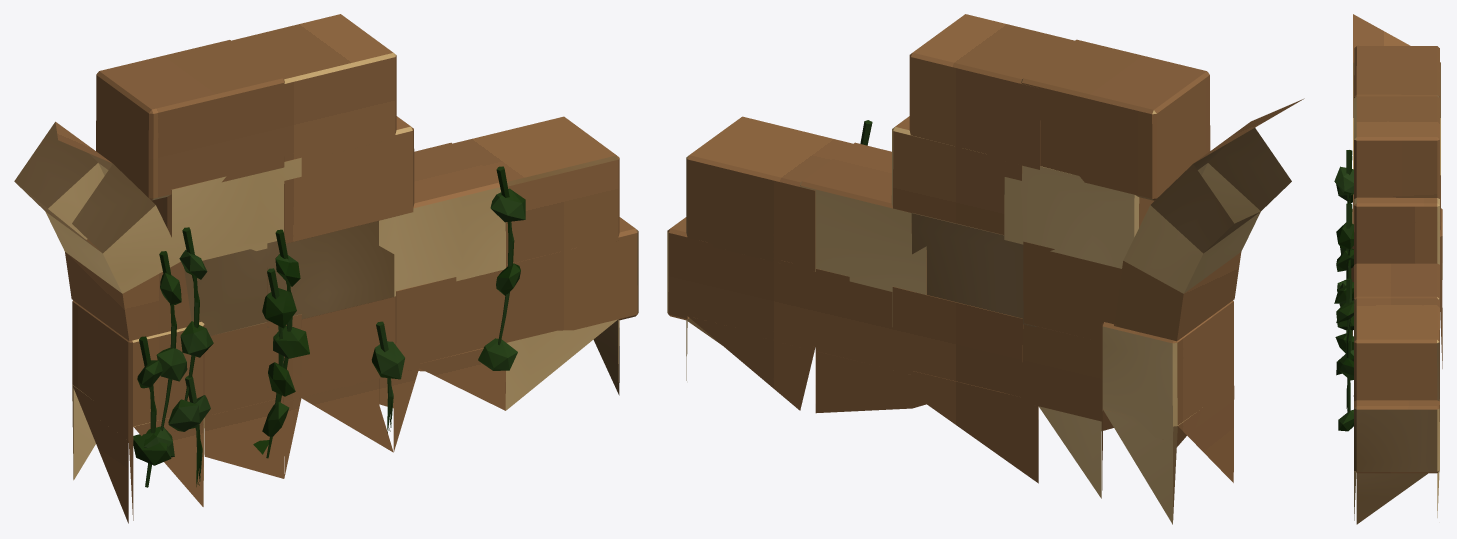
Rendered from floating_earth_wall_right.obj.
3 renders of one model, left to right at view 1: azimuth 30°, elevation 25°; view 2: azimuth 150°, elevation 25°; view 3: azimuth 270°, elevation 25°, orthographic. The views are drawn at different scales.
Visible parts, largest first — view 1: FloatingEarthWallRight; view 2: FloatingEarthWallRight; view 3: FloatingEarthWallRight.
Part boxes in pixels (x1,y1,x2,y2): FloatingEarthWallRight: [14, 14, 638, 523]; FloatingEarthWallRight: [667, 14, 1304, 524]; FloatingEarthWallRight: [1334, 14, 1442, 524].
Size of the model in its own units: 4.9 by 3.27 by 1.04.
